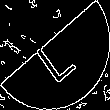L_NW: (30, 26, 80, 84)
